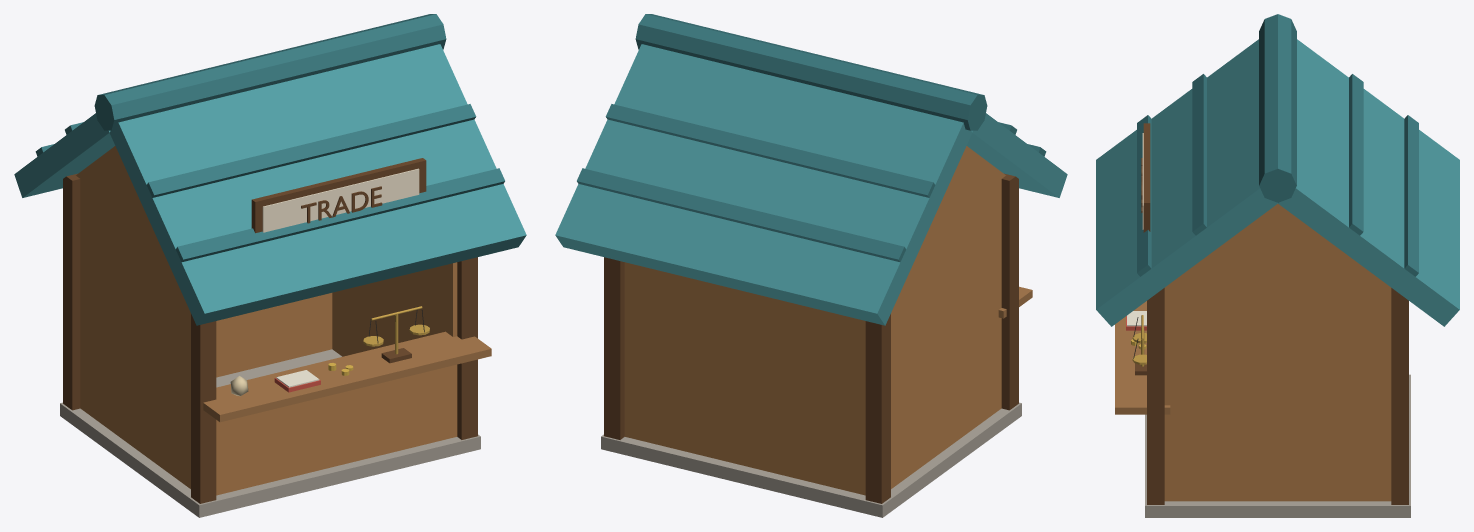
Rendered from trading_booth.glb.
The picture shows the model from 3 angles, left to right: view 1: azimuth 30°, elevation 25°; view 2: azimuth 150°, elevation 25°; view 3: azimuth 270°, elevation 25°; orthographic projection. The views are drawn at different scales.
Parts seen in each view (by area): view 1: Market_Trading_Booth; view 2: Market_Trading_Booth; view 3: Market_Trading_Booth.
Boxes of the visible parts, x1=… form: Market_Trading_Booth: x1=14, y1=14, x2=526, y2=517; Market_Trading_Booth: x1=555, y1=14, x2=1067, y2=517; Market_Trading_Booth: x1=1096, y1=14, x2=1459, y2=517.
Bounding box in the file's own units: 3.3 × 3.59 × 3.28.
